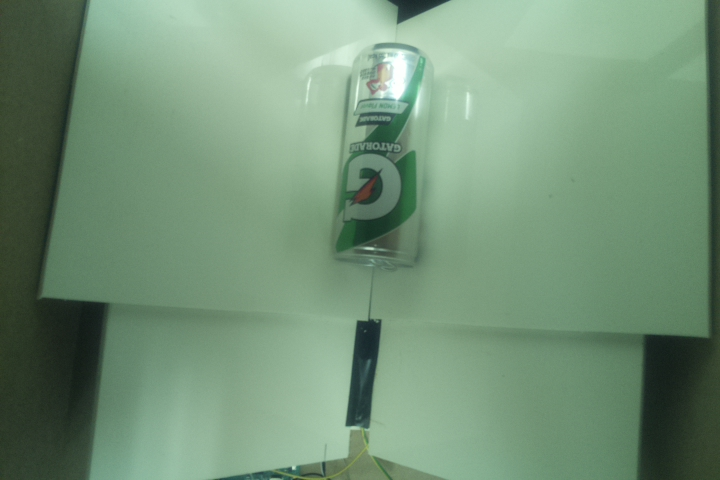can: (327, 39, 438, 271)
